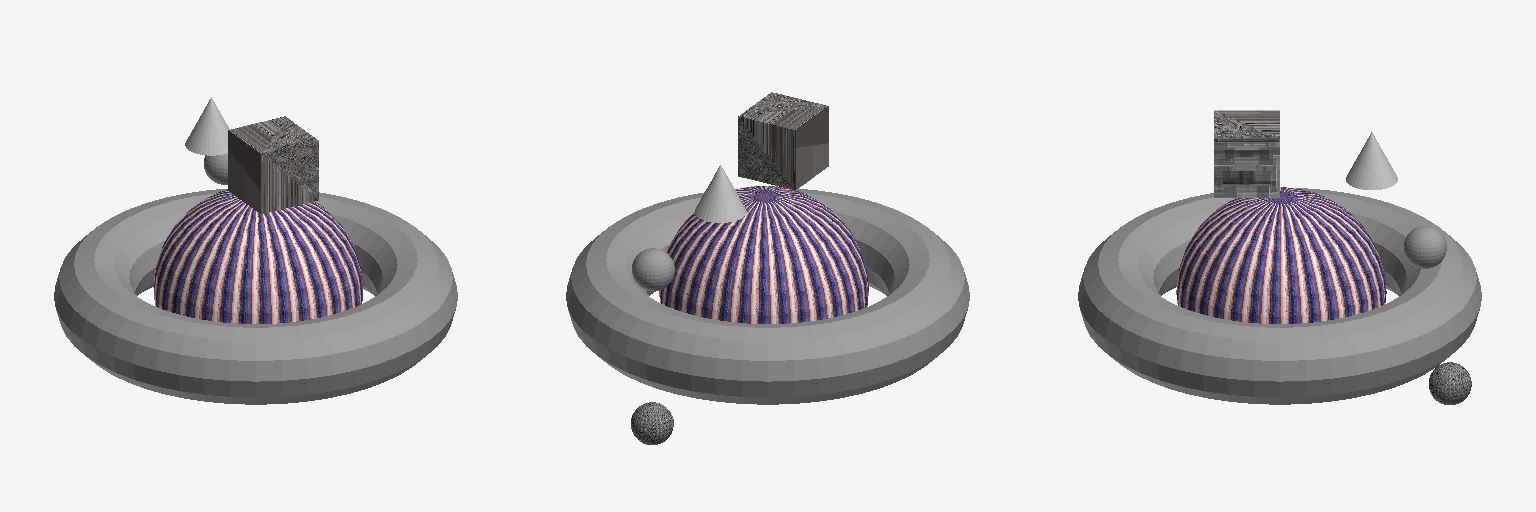
3 renders of one model, left to right at view 1: azimuth 30°, elevation 25°; view 2: azimuth 150°, elevation 25°; view 3: azimuth 270°, elevation 25°, orthographic.
Parts seen in each view (by area): view 1: Ring_PlanetRing, Planet_Sphere, Spaceship_Cube, UFO_Cone, Phobos_Moon1; view 2: Ring_PlanetRing, Planet_Sphere, Spaceship_Cube, UFO_Cone, Phobos_Moon1, Deimios_Moon2; view 3: Ring_PlanetRing, Planet_Sphere, Spaceship_Cube, UFO_Cone, Phobos_Moon1, Deimios_Moon2.
Part boxes in pixels (x1,y1,x2,y2): Ring_PlanetRing: (54, 189, 457, 404); Planet_Sphere: (153, 189, 362, 323); Spaceship_Cube: (228, 116, 318, 214); UFO_Cone: (185, 97, 229, 155); Phobos_Moon1: (204, 153, 227, 184); Ring_PlanetRing: (566, 188, 969, 404); Planet_Sphere: (659, 186, 868, 323); Spaceship_Cube: (738, 92, 828, 189); UFO_Cone: (694, 165, 746, 222); Phobos_Moon1: (632, 248, 674, 290); Deimios_Moon2: (631, 402, 673, 444); Ring_PlanetRing: (1078, 188, 1481, 404); Planet_Sphere: (1176, 187, 1386, 323); Spaceship_Cube: (1214, 110, 1279, 197); UFO_Cone: (1346, 132, 1397, 189); Phobos_Moon1: (1404, 226, 1446, 268); Deimios_Moon2: (1429, 362, 1471, 404).
Bounding box in the file's own units: 3.84 × 2.78 × 3.84.
7 materials, 5 textured.